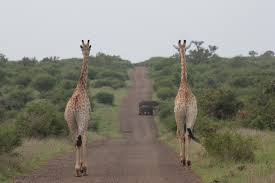Jirafa: (161, 33, 218, 109), (71, 39, 104, 95)
